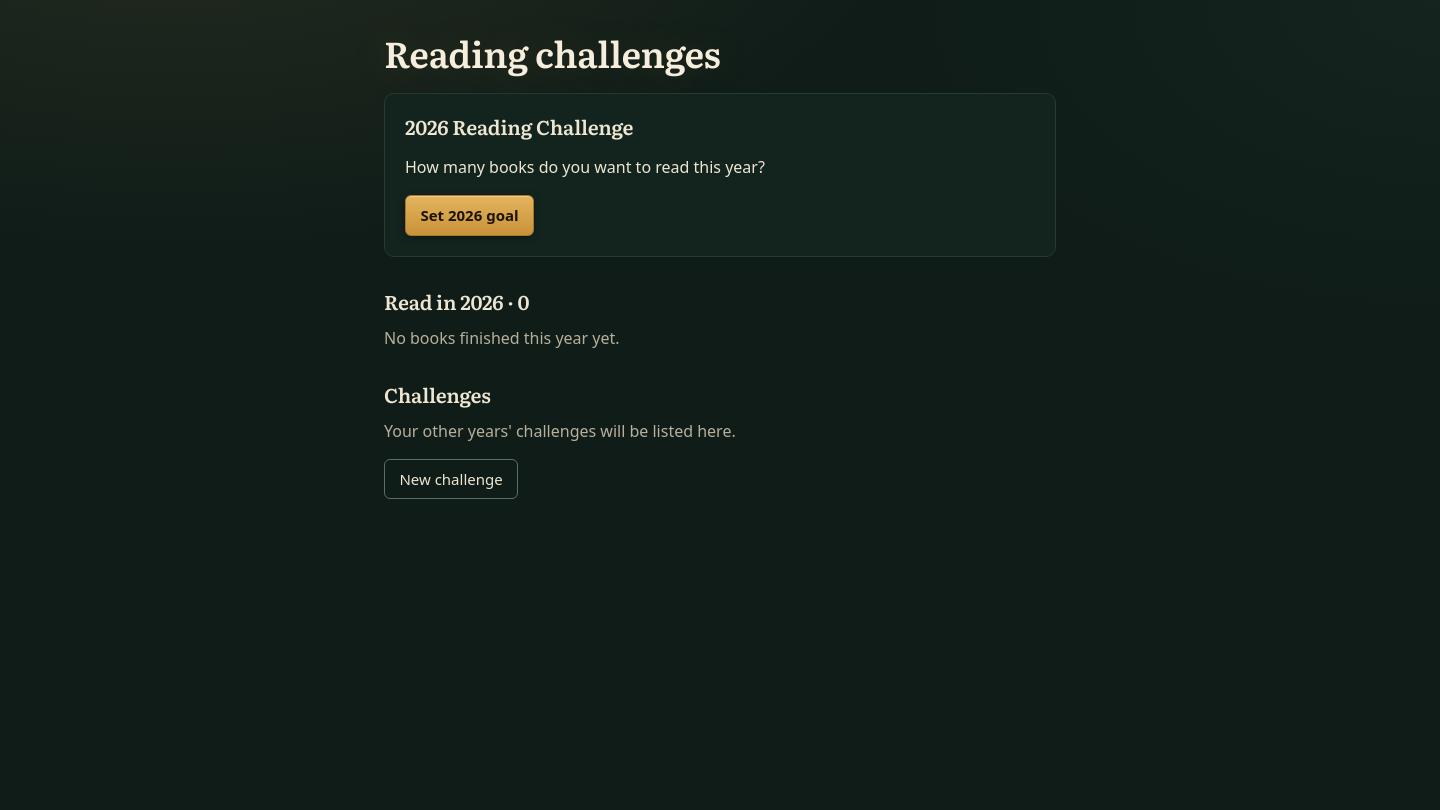
reading challenges › aBadGoalIsExplainedAndNotSaved
The width and height of the screenshot is (1440, 810).
Step 1. Click the button "Set 2026 goal" → click(470, 216), box [405,195,534,236]
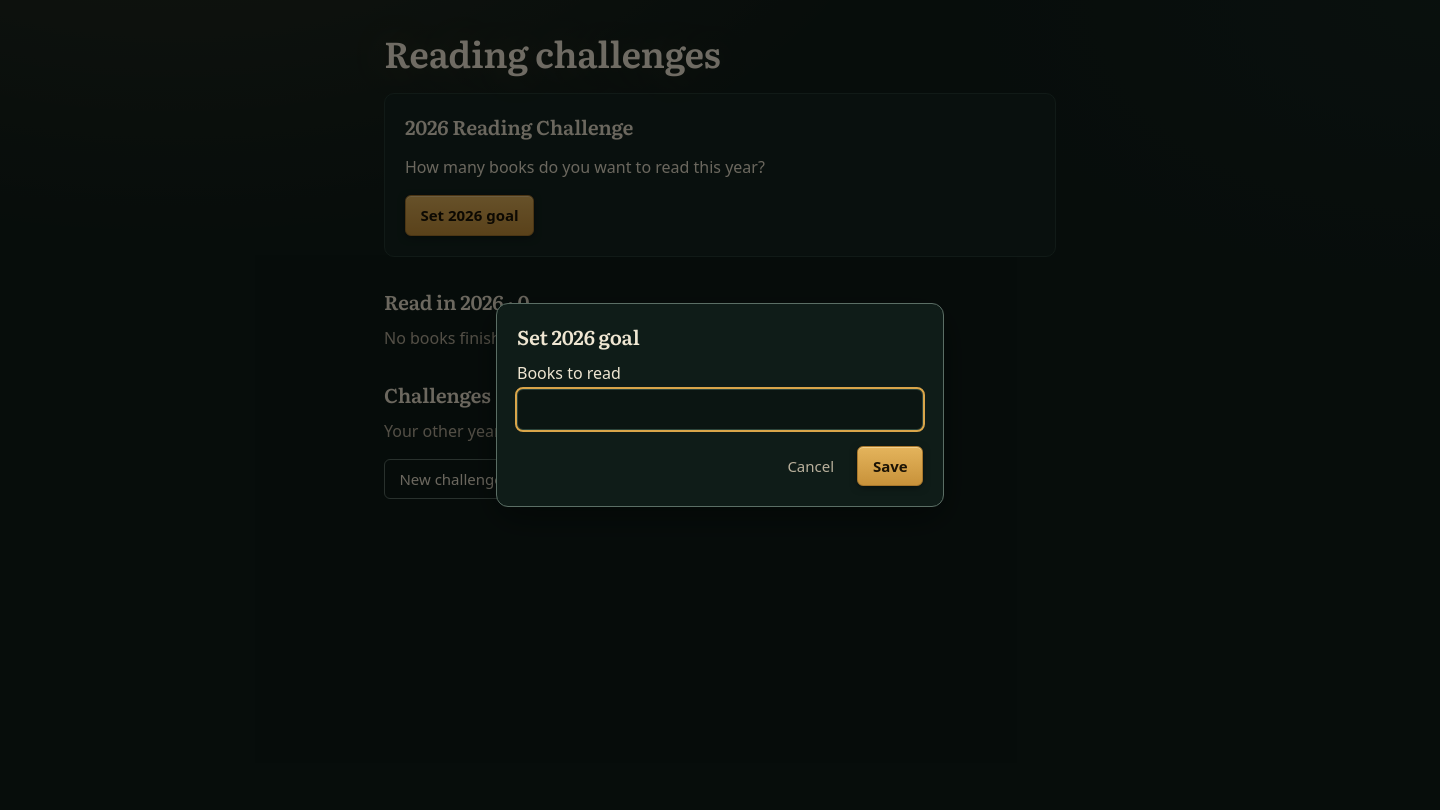
Step 2. Type "1000" into the field labelled "Books to read" → (720, 409), box [517,389,923,430]
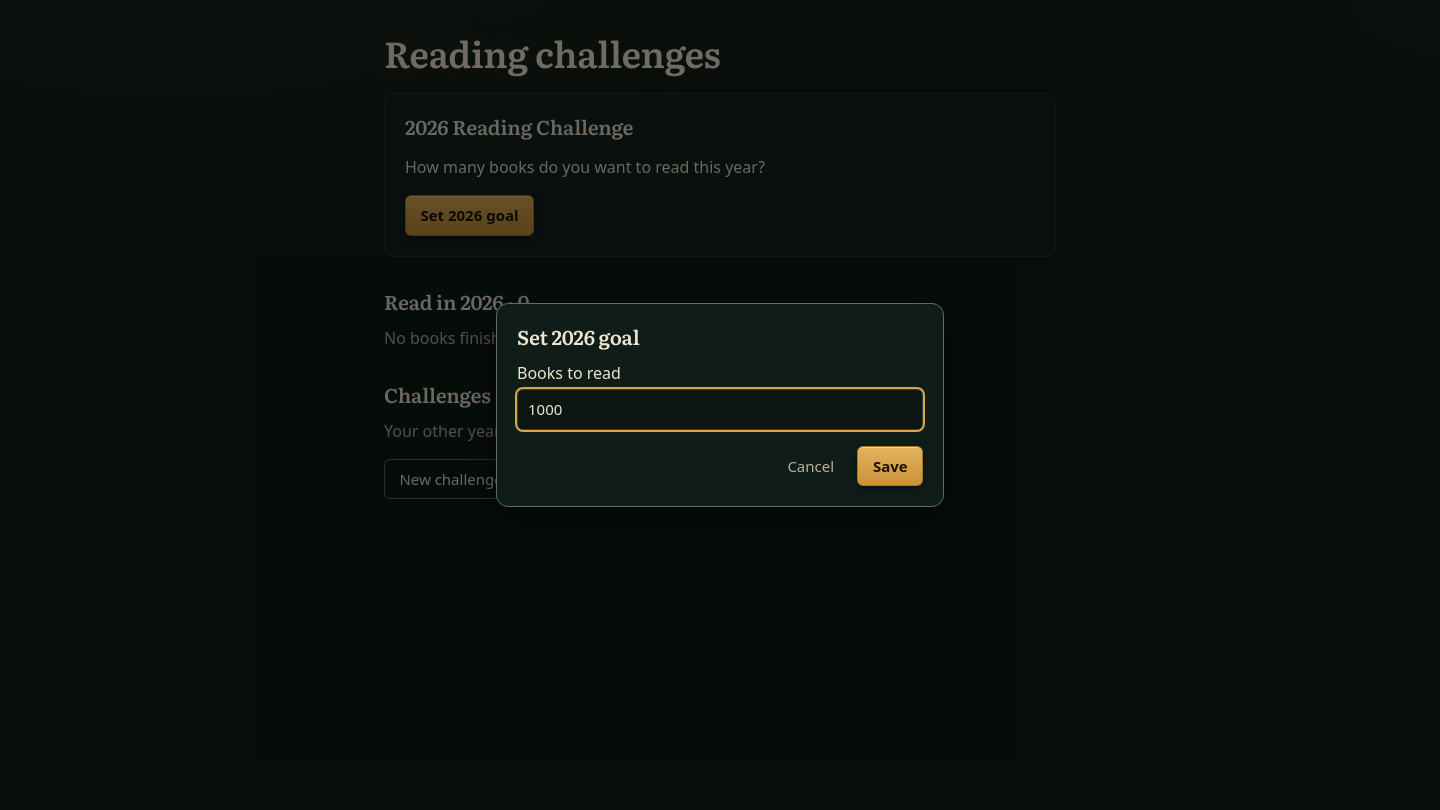
Step 3. Click the button "Save" → click(890, 466), box [858,446,923,486]
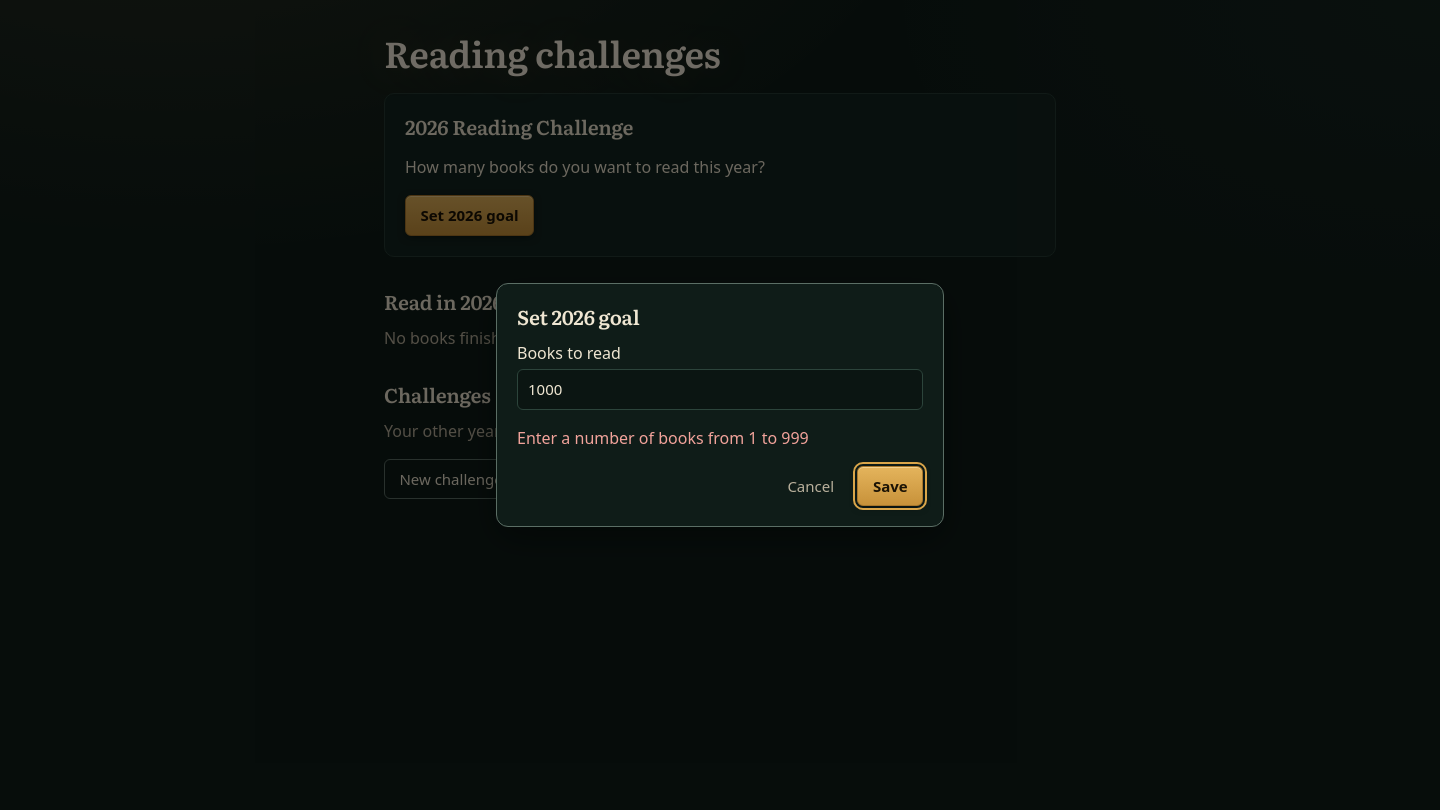
Now the message reads "Enter a number of books from 1 to 999", box [517,426,809,448]
